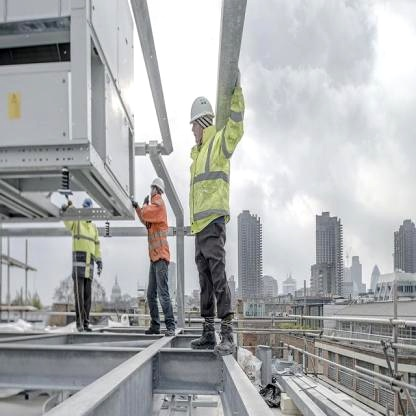vest: (186, 122, 240, 239), (67, 215, 105, 281), (137, 192, 170, 264)
white: (186, 94, 218, 126), (150, 173, 168, 194)
